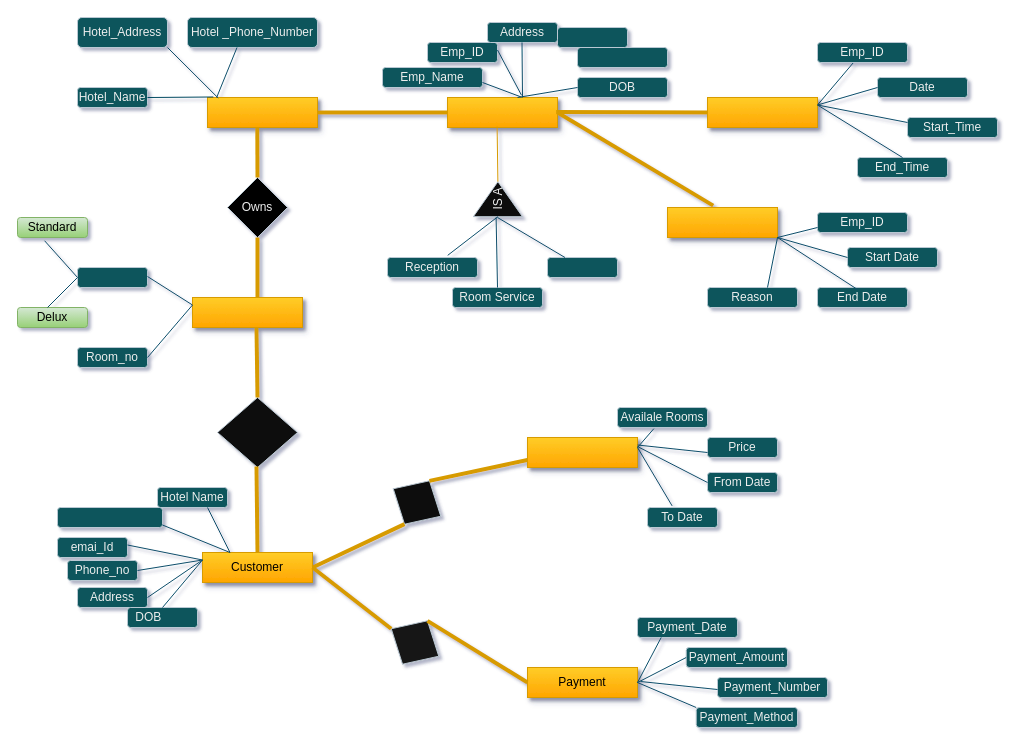
This 1021x751 diagram has some shape labels left out. Each missing label, with the centre of its shape:
Admin: the point at 582,267
Check In Check out: the point at 257,432
Customer_Name: the point at 109,517
Employee: the point at 503,113
Hotel: the point at 263,113
Job Description: the point at 622,57
Leave: the point at 723,223
Make: the point at 415,642
MObile Num: the point at 592,37
Reserve: the point at 417,502
Room: the point at 248,313
Room_Type: the point at 112,277
Roster: the point at 763,113
Today's_Price: the point at 583,453
